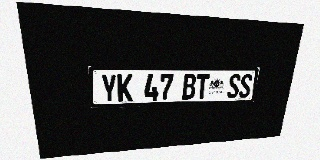4: (144, 74, 159, 101)
7: (159, 74, 173, 100)
B: (182, 74, 196, 100)
K: (117, 74, 133, 102)
S: (238, 74, 253, 98), (227, 74, 241, 98)
T: (195, 74, 210, 99)
Y: (100, 74, 117, 102)
